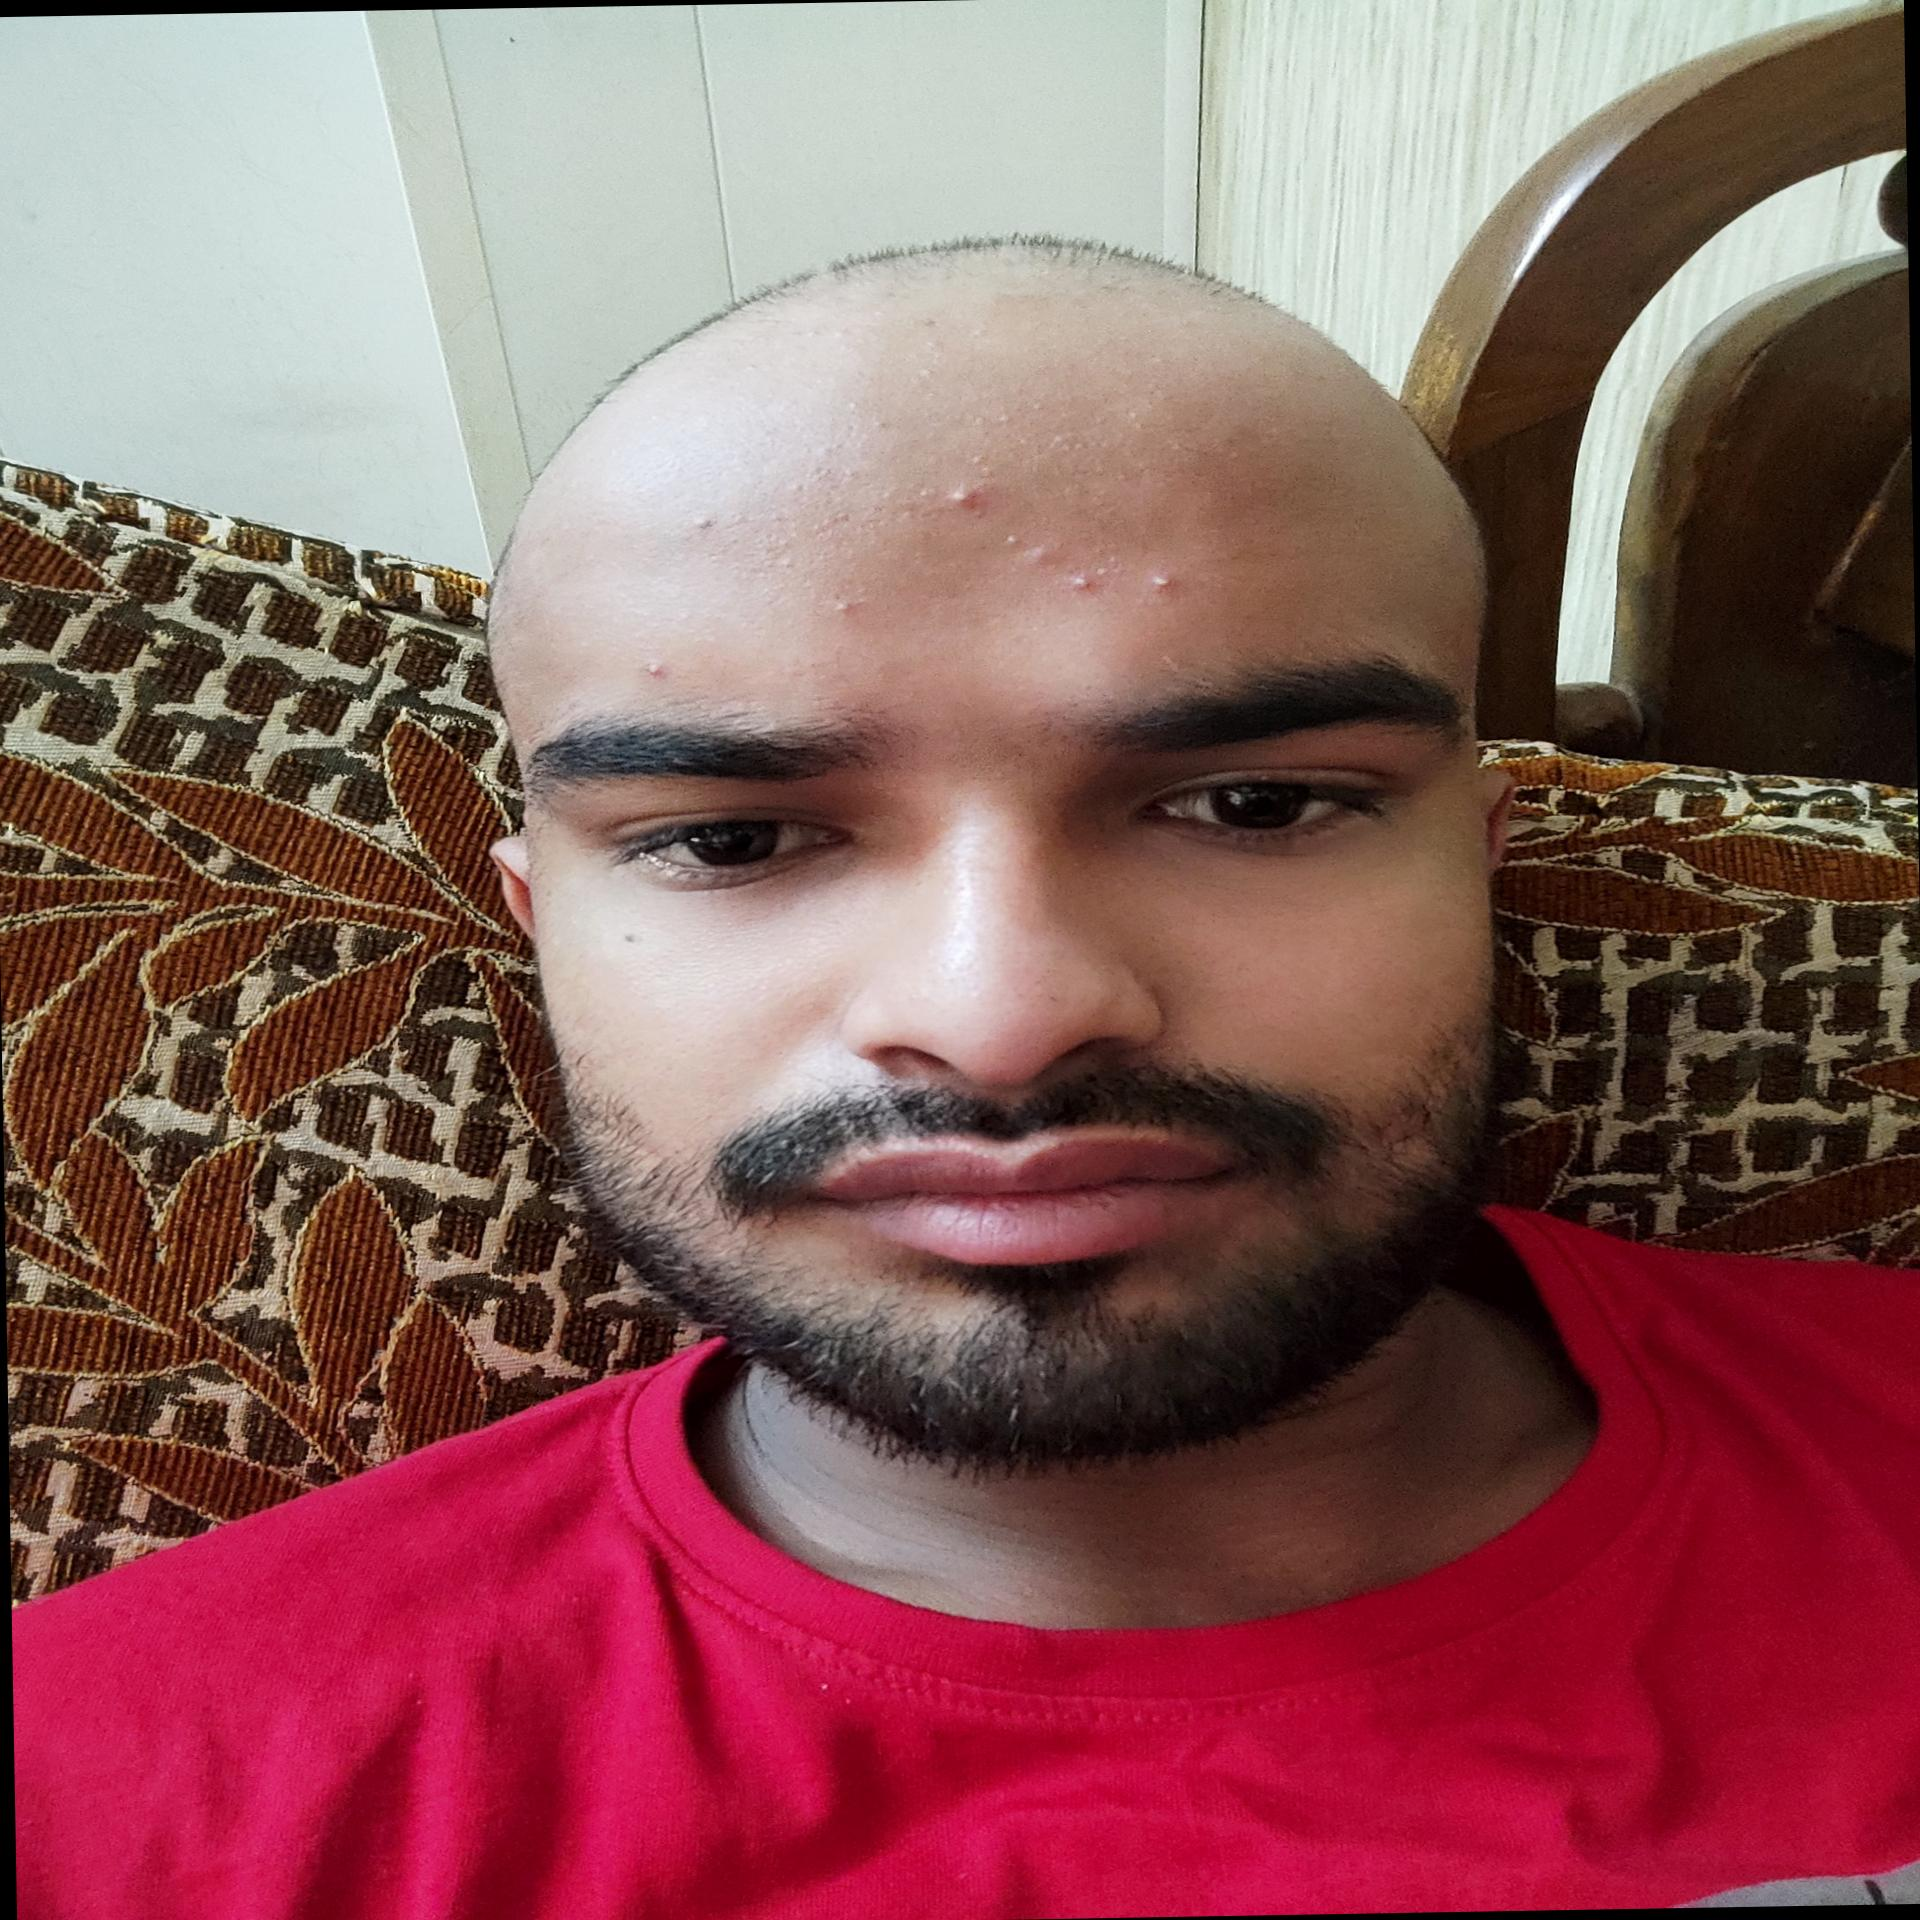Acne: (944, 480, 988, 513), (636, 652, 679, 684), (1025, 540, 1057, 571), (1148, 570, 1180, 594), (832, 598, 863, 621), (1067, 573, 1095, 594), (693, 508, 717, 531)
Blackhead: (1118, 928, 1255, 999), (1009, 951, 1073, 1011)
Englarged Pores: (721, 466, 888, 585)
